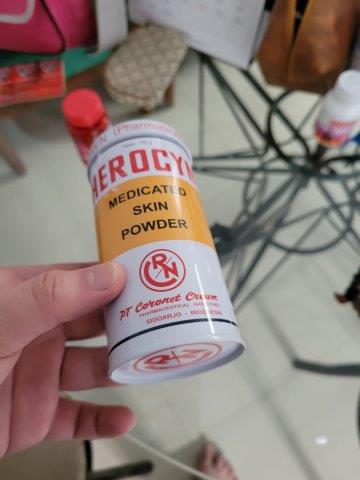kaleng: (86, 121, 244, 387)
